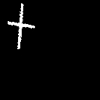single_crochet: (8, 4, 34, 48)
